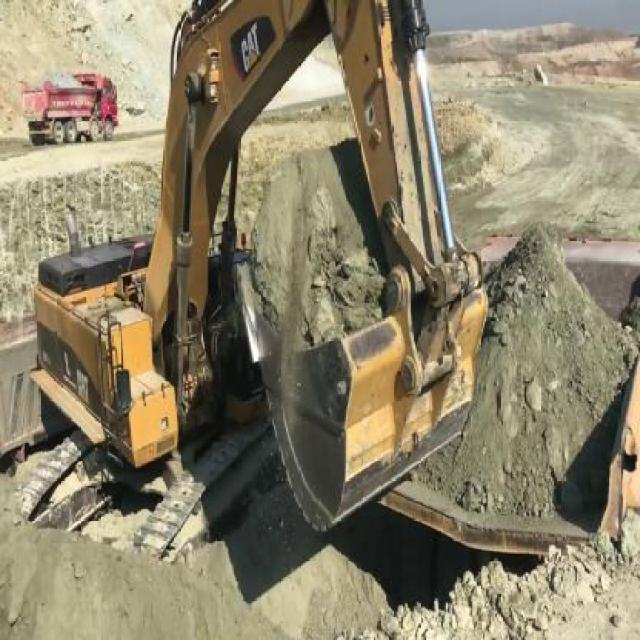dump_truck: (21, 68, 118, 147)
excavator: (27, 2, 490, 566)
